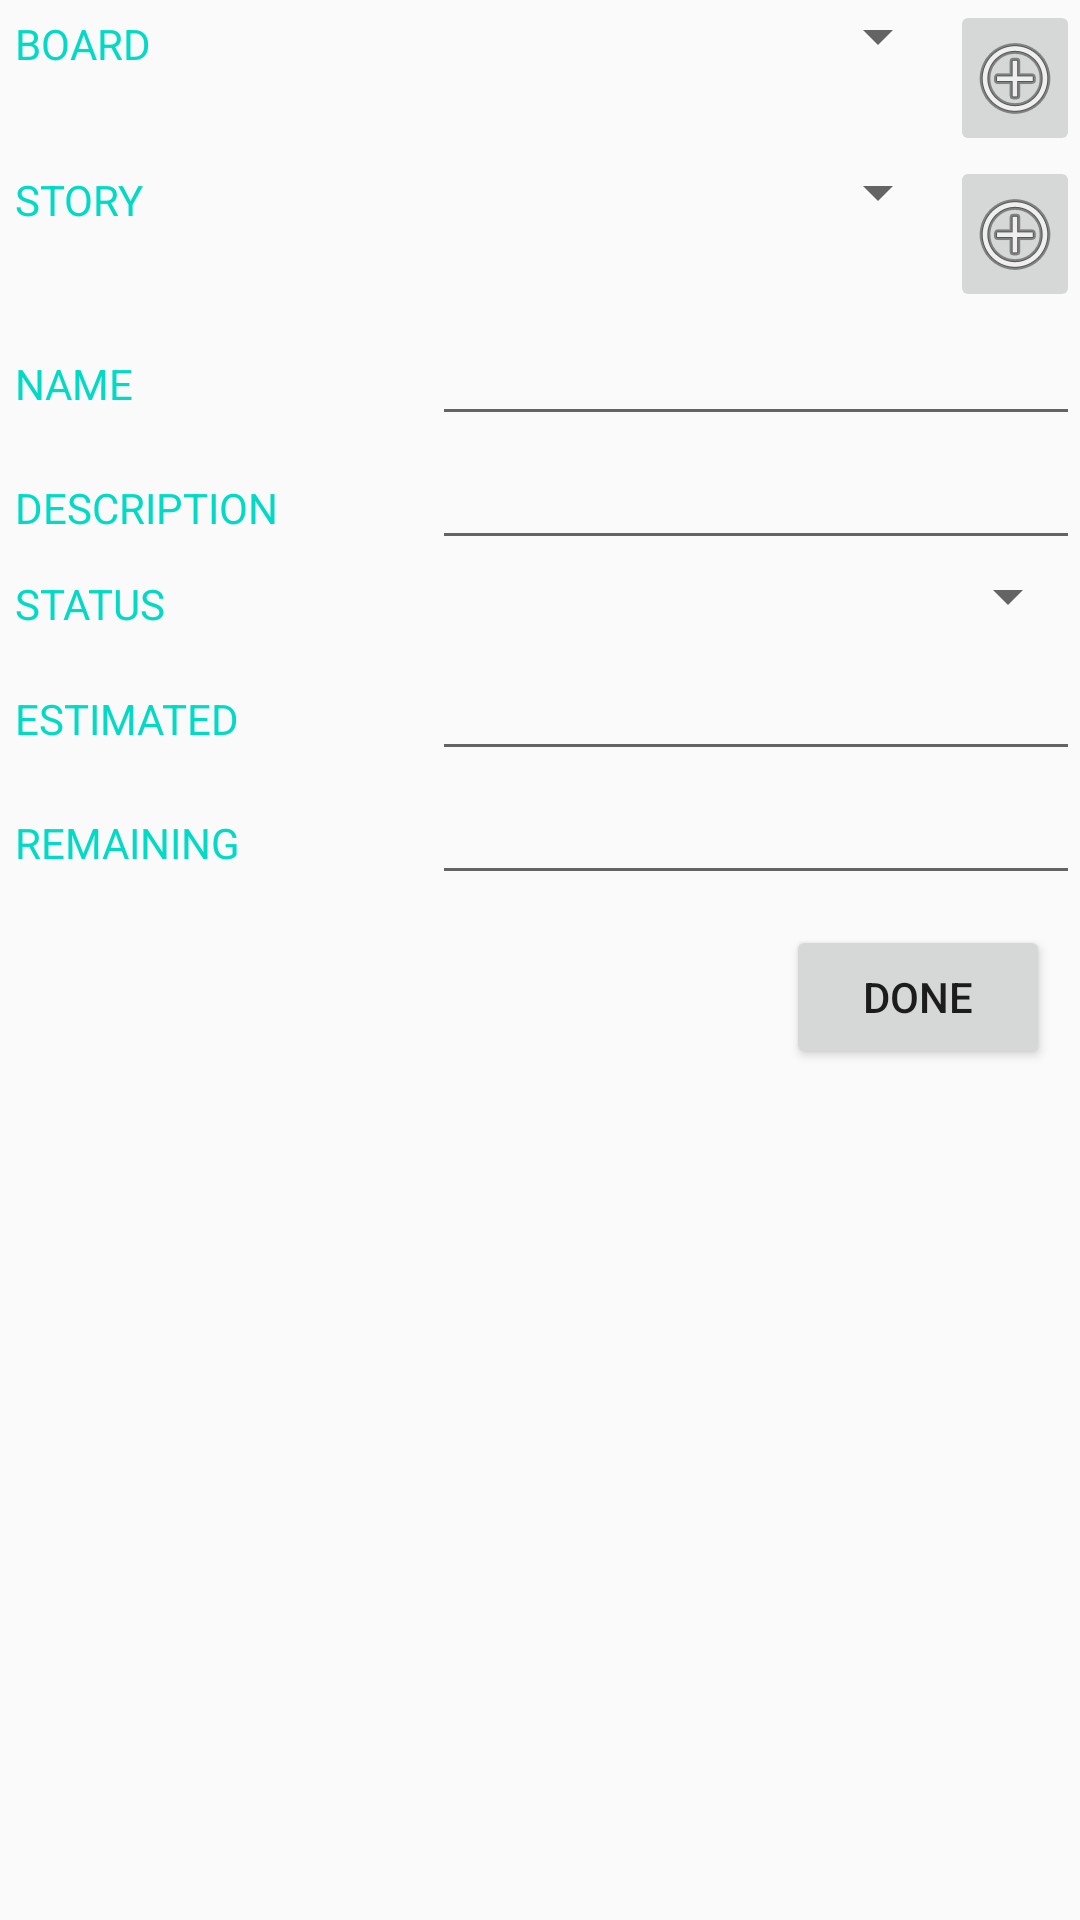

Icon click points for this 1080*1920 phone screenshot, format (x,y):
Add board: (1015,78)
Add story: (1015,234)
